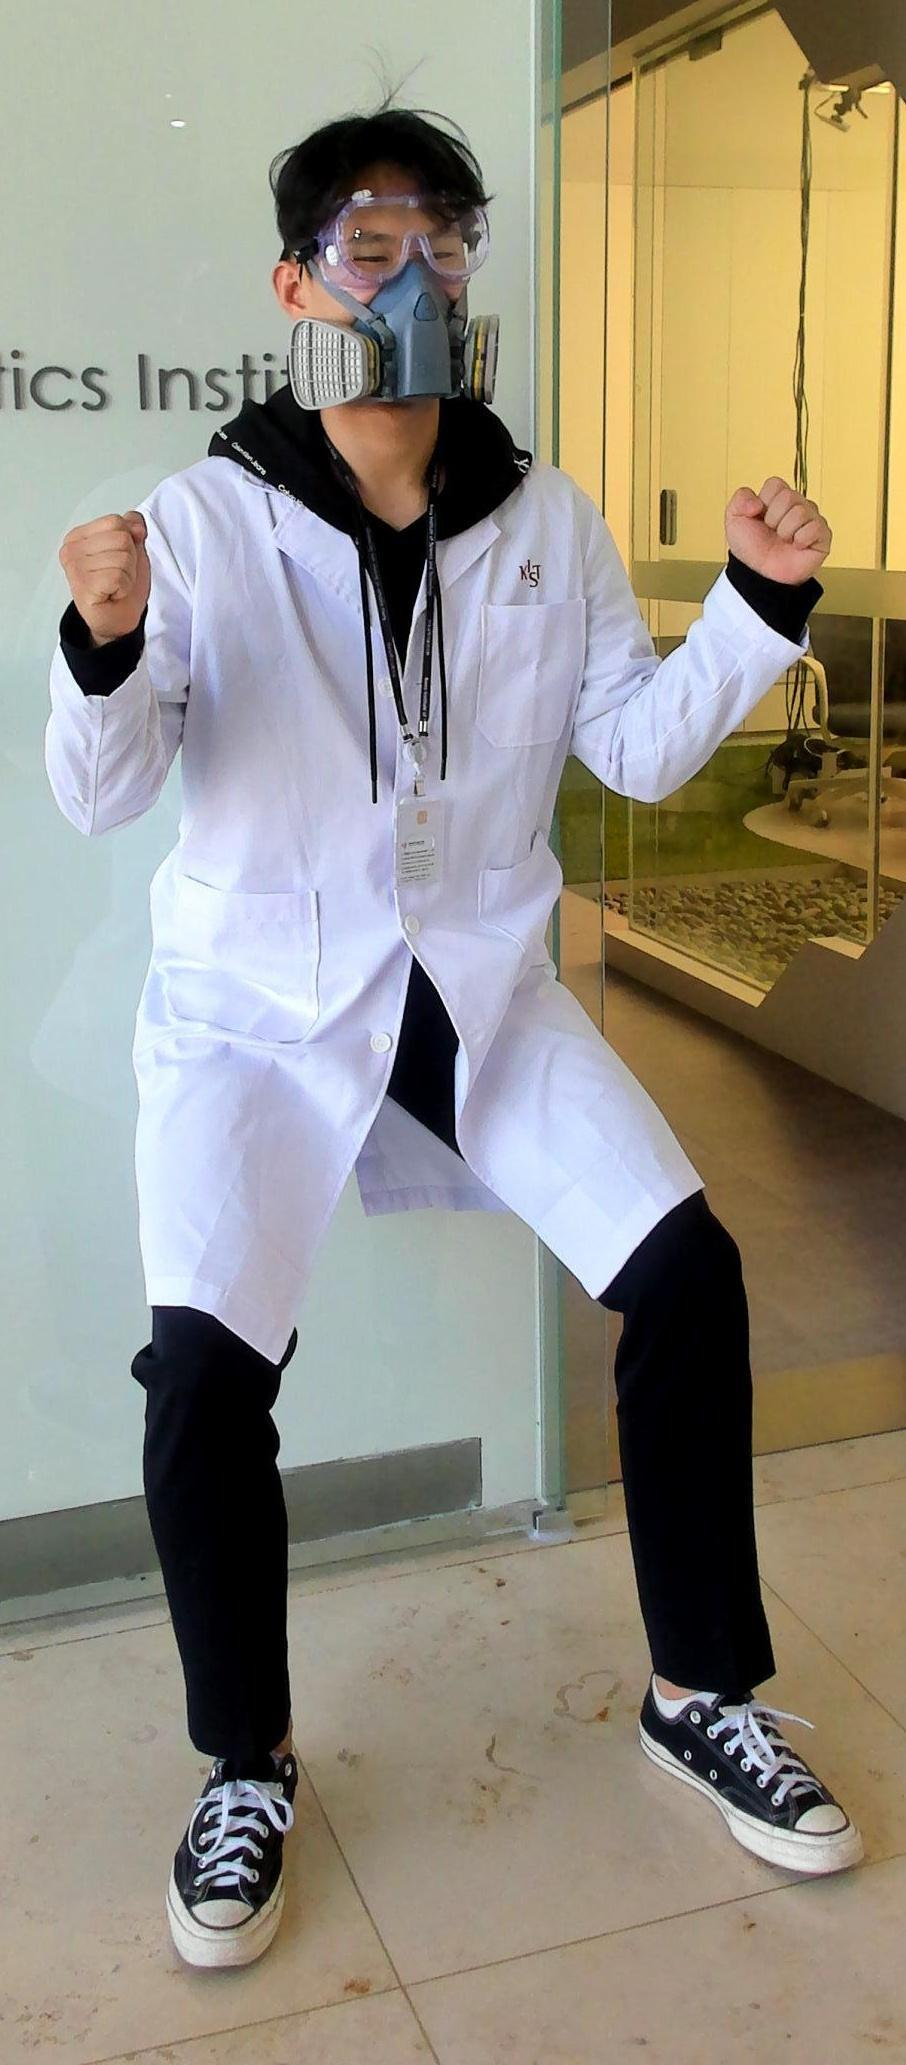lab_coat: (157, 496, 666, 1310)
